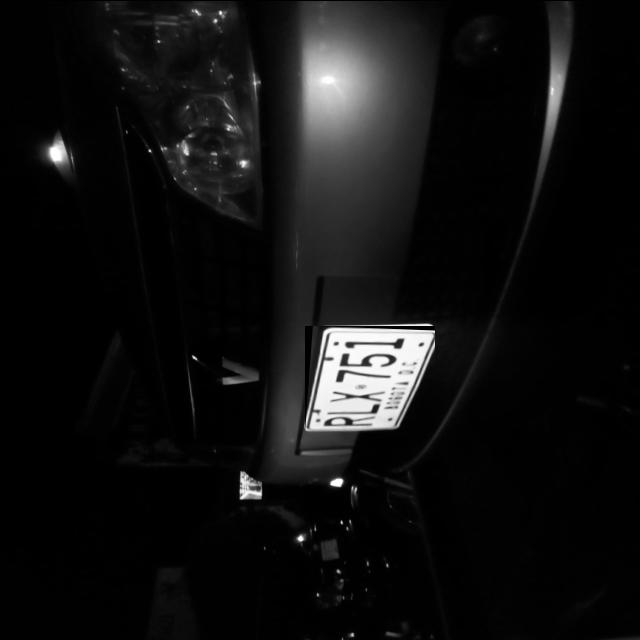plate: (306, 327, 435, 431)
